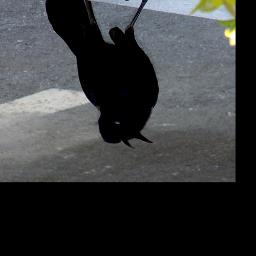Crow: (46, 0, 177, 150)
